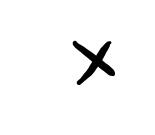mult: (72, 39, 115, 85)
